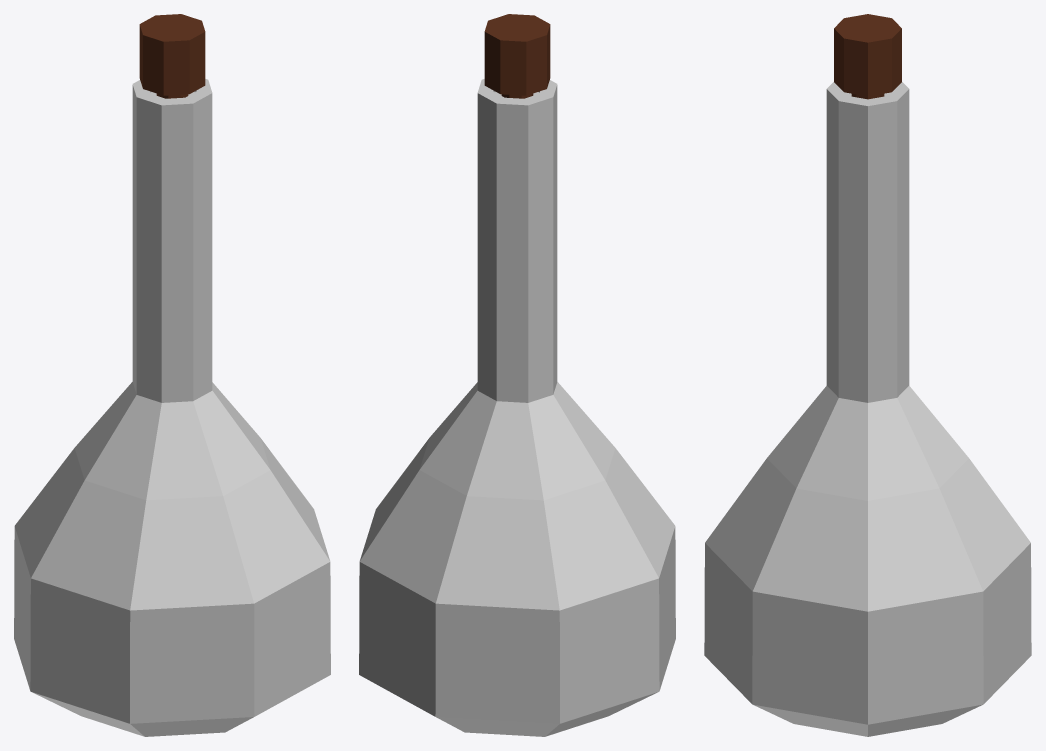
The model's file is potion2-ab565e4776.glb.
3 renders of one model, left to right at view 1: azimuth 30°, elevation 25°; view 2: azimuth 150°, elevation 25°; view 3: azimuth 270°, elevation 25°, orthographic.
Parts seen in each view (by area): view 1: Potion2.obj; view 2: Potion2.obj; view 3: Potion2.obj.
Boxes of the visible parts, x1,y1,x2,y2 form: Potion2.obj: (14, 14, 330, 736); Potion2.obj: (359, 14, 675, 736); Potion2.obj: (704, 14, 1031, 736).
Bounding box in the file's own units: 0.4769 × 1.07 × 0.4769.
